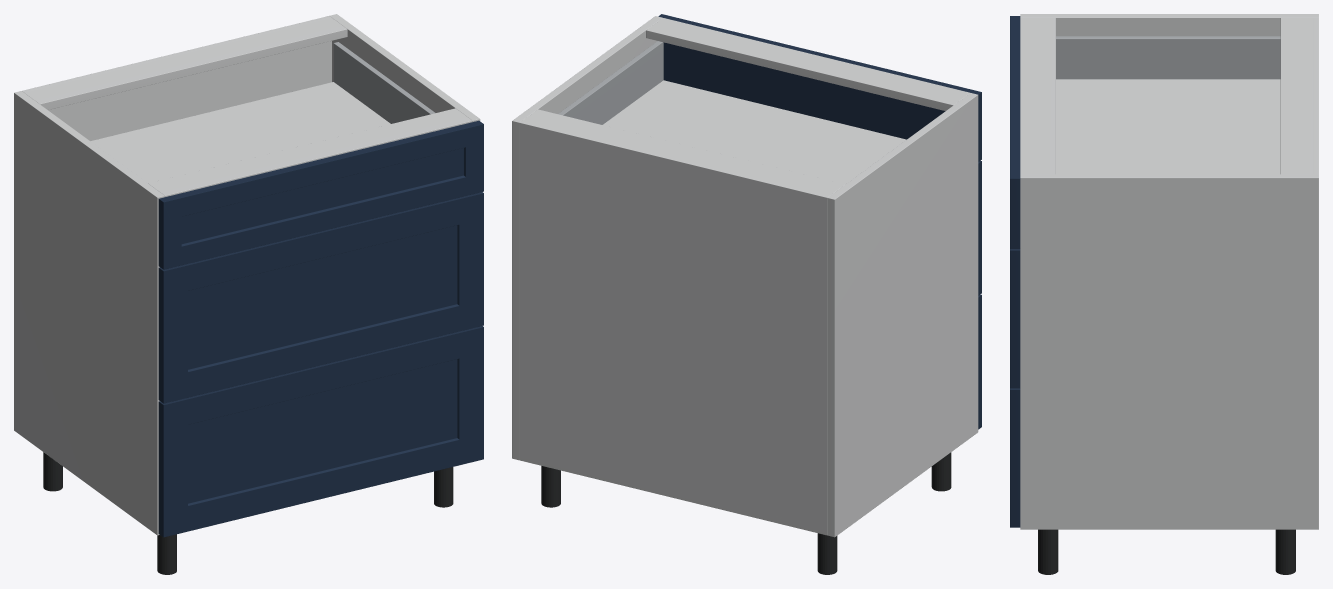
File: oppein-pb-bss-3db30.glb
The picture shows the model from 3 angles, left to right: view 1: azimuth 30°, elevation 25°; view 2: azimuth 150°, elevation 25°; view 3: azimuth 270°, elevation 25°; orthographic projection. The views are drawn at different scales.
Visible parts, largest first — view 1: Cabinet side, Drawer front, Drawer front.001, Drawer front.002, Drawer floor.002, Cabinet back, Top support rail, Top support rail.001, Drawer side.005, Cabinet side.001, Adjustable foot.001, Adjustable foot.003 (+1 smaller); view 2: Cabinet back, Cabinet side, Drawer floor.002, Drawer front.002, Top support rail.001, Cabinet side.001, Top support rail, Drawer side.005, Adjustable foot, Adjustable foot.002, Cabinet bottom, Adjustable foot.001; view 3: Cabinet side.001, Drawer floor.002, Drawer side.004, Top support rail.001, Cabinet side, Top support rail, Drawer front.002, Drawer front, Drawer front.001, Adjustable foot.003, Adjustable foot.002, Cabinet back.
Boxes of the visible parts, box(x1,y1,x2,y2) form: Cabinet side: box(14, 91, 164, 535); Drawer front: box(158, 326, 483, 537); Drawer front.001: box(158, 192, 483, 403); Drawer front.002: box(158, 120, 483, 269); Drawer floor.002: box(90, 82, 390, 183); Cabinet back: box(22, 16, 331, 140); Top support rail: box(23, 17, 347, 109); Top support rail.001: box(148, 108, 472, 196); Drawer side.005: box(333, 42, 435, 123); Cabinet side.001: box(329, 14, 480, 121); Adjustable foot.001: box(157, 534, 176, 574); Adjustable foot.003: box(434, 467, 453, 507); Cabinet back: box(519, 120, 829, 534); Cabinet side: box(827, 93, 978, 537); Drawer floor.002: box(603, 80, 906, 184); Drawer front.002: box(658, 14, 981, 161); Top support rail.001: box(646, 18, 969, 110); Cabinet side.001: box(512, 16, 662, 460); Top support rail: box(523, 109, 844, 195); Drawer side.005: box(558, 41, 663, 124); Adjustable foot: box(817, 533, 837, 574); Adjustable foot.002: box(541, 466, 560, 507); Cabinet bottom: box(519, 456, 826, 535); Adjustable foot.001: box(931, 452, 951, 491); Cabinet side.001: box(1020, 174, 1318, 529); Drawer floor.002: box(1056, 79, 1280, 174); Drawer side.004: box(1056, 36, 1280, 79); Top support rail.001: box(1020, 18, 1055, 174); Cabinet side: box(1020, 14, 1318, 36); Top support rail: box(1280, 18, 1315, 174); Drawer front.002: box(1010, 16, 1020, 248); Drawer front: box(1010, 388, 1020, 527); Drawer front.001: box(1010, 249, 1020, 388); Adjustable foot.003: box(1038, 529, 1058, 574); Adjustable foot.002: box(1275, 529, 1295, 574); Cabinet back: box(1313, 18, 1318, 174).
Bounding box in the file's own units: 0.762 × 0.8763 × 0.6064.
